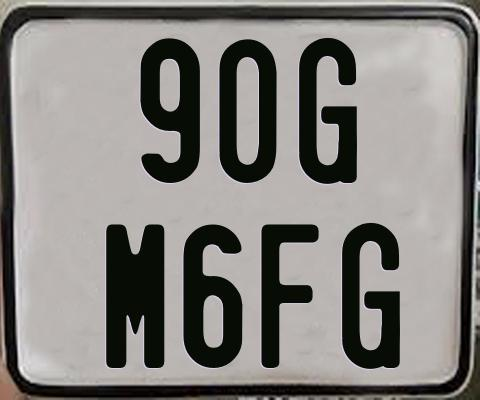0: (218, 36, 278, 180)
6: (180, 221, 244, 367)
9: (140, 38, 203, 189)
F: (259, 222, 321, 368)
G: (339, 222, 399, 374), (299, 36, 361, 183)
M: (105, 224, 165, 371)
